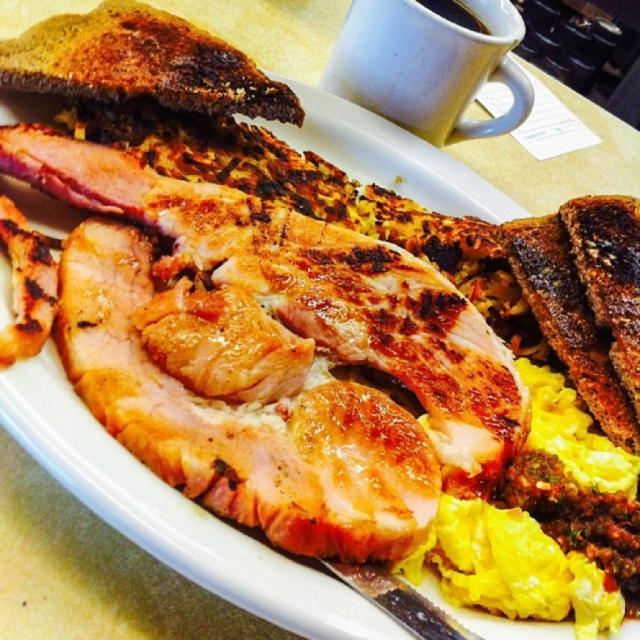Coffee: (324, 3, 555, 130)
